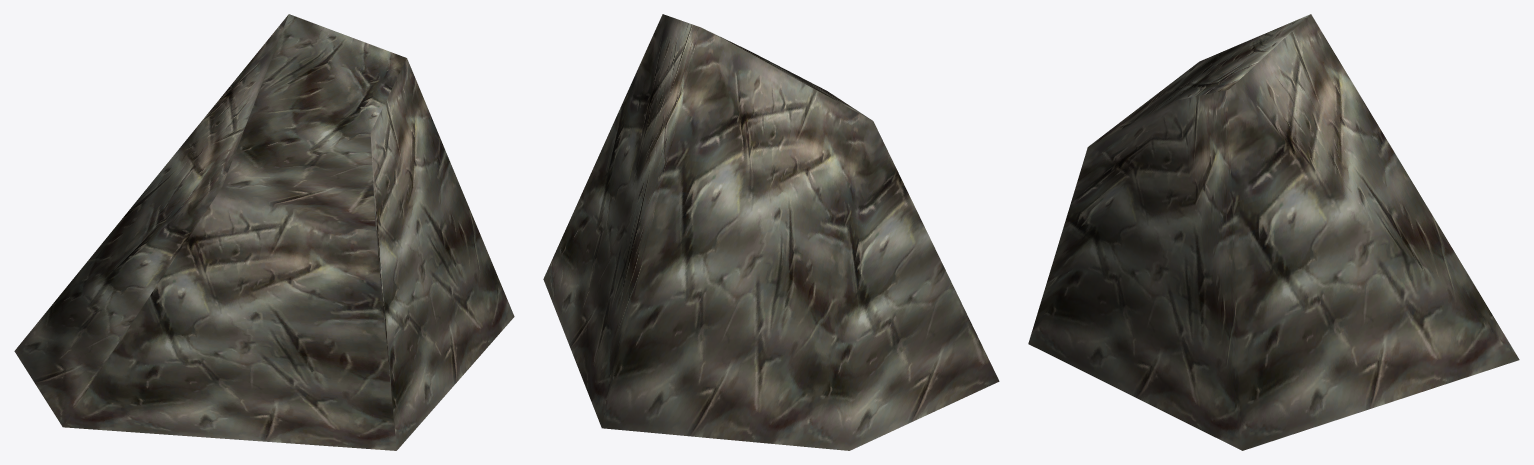
Rendered from ogremoundrock04.glb.
3 views of the same model, side by side, from view 1: azimuth 30°, elevation 25°; view 2: azimuth 150°, elevation 25°; view 3: azimuth 270°, elevation 25° (orthographic). The views are drawn at different scales.
Size of the model in its own units: 20.48 by 14.23 by 18.33.
1 material, 1 textured.
